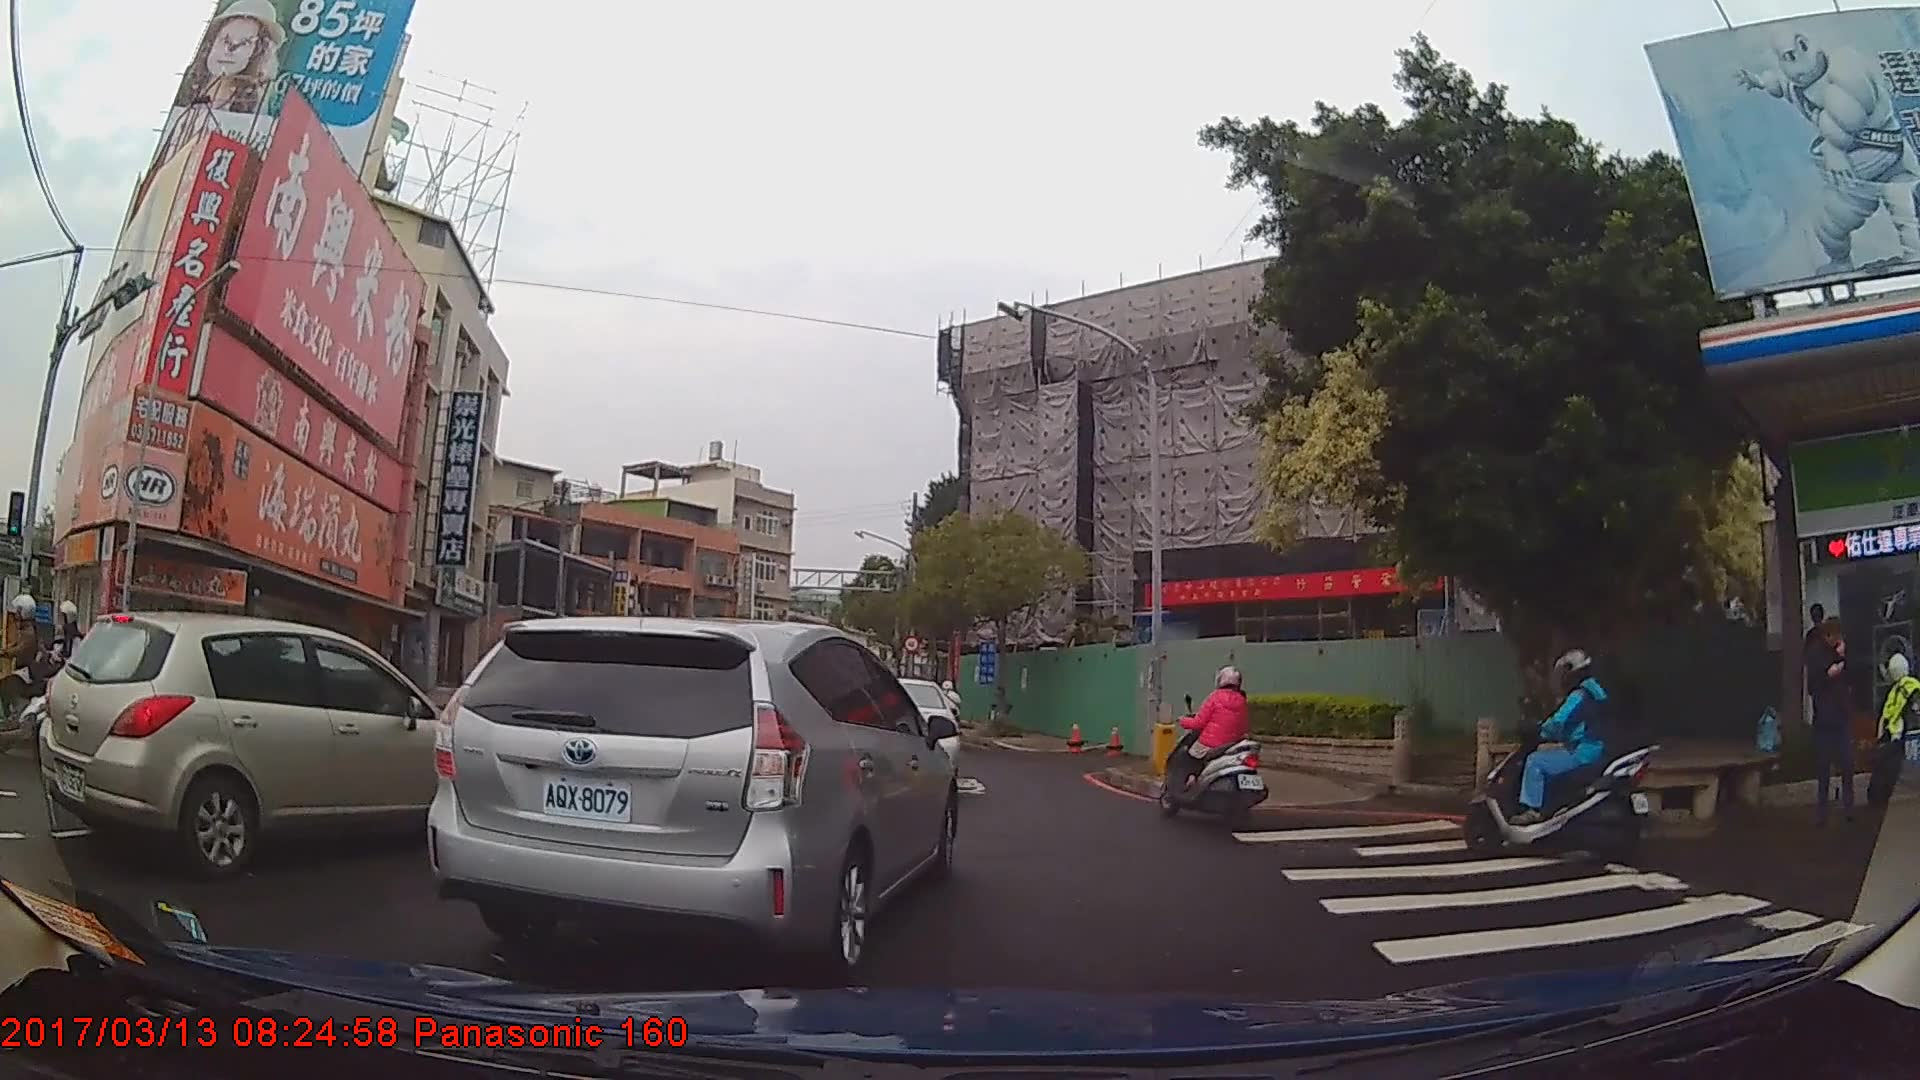pedestrian: (1803, 614, 1862, 801), (1798, 606, 1842, 741)
rider: (1466, 649, 1656, 862), (1159, 667, 1269, 832), (940, 680, 962, 754)
vehicle: (422, 615, 960, 976), (39, 607, 499, 876)
